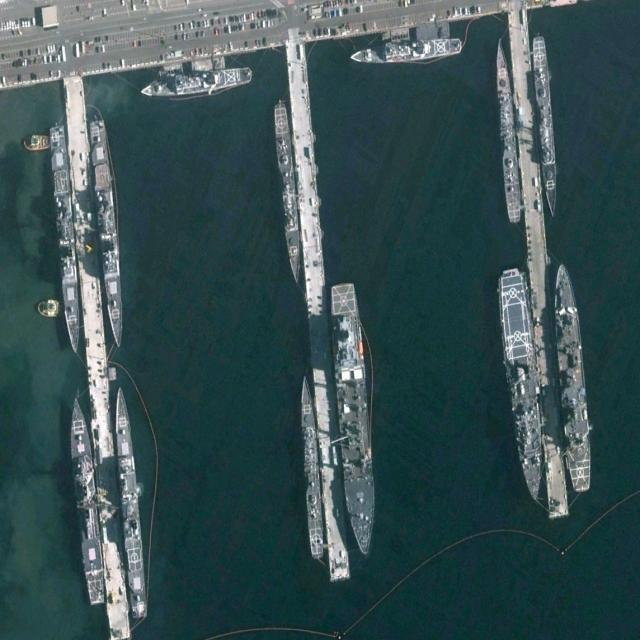Commander: (327, 278, 380, 557), (548, 260, 595, 493)
Cruiser: (87, 117, 128, 349), (110, 386, 148, 622), (47, 123, 85, 355)
Destroyer: (64, 392, 106, 607)
Frigate: (273, 99, 304, 287), (529, 32, 560, 219), (491, 35, 521, 224), (297, 372, 325, 561)
Hovercraft: (37, 298, 64, 315), (22, 135, 50, 149)
Landing: (493, 264, 552, 505)
Other Ship: (138, 64, 253, 103), (349, 33, 462, 69)
